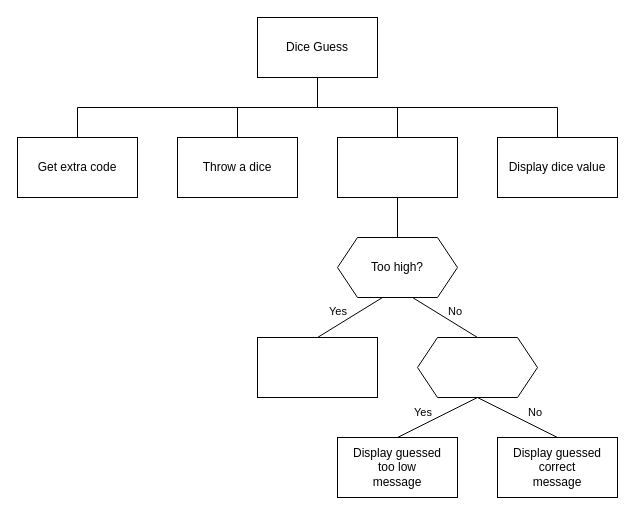
Some shapes in this 635 by 515 pixel diagram are drawn without their labels. Each missing label, with the box of its shape:
Display guessed too high message: (256, 336, 378, 398)
Get players guess: (336, 136, 458, 198)
Too low?: (416, 336, 538, 398)
